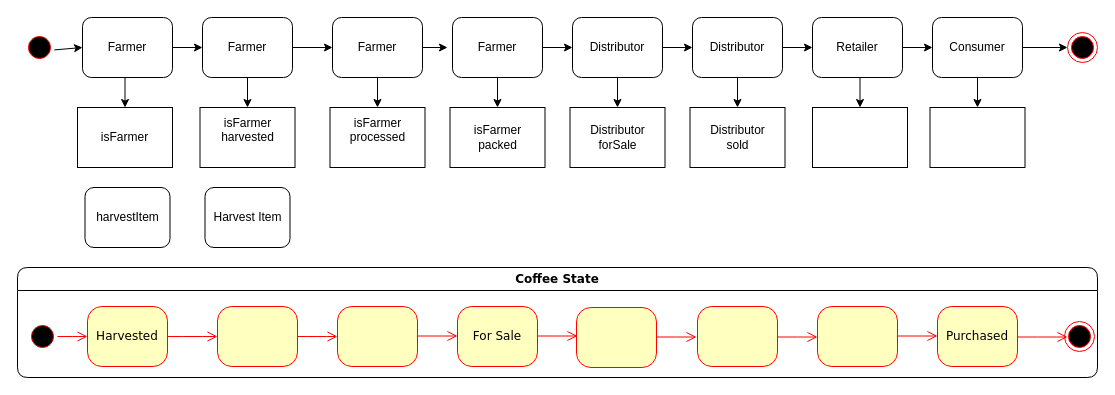
Some shapes in this 1115 by 395 pixel diagram are drawn without their labels. The centre of each missing label's shape, as x and y in pixels:
"isConsumer received" belongs at (x=977, y=137).
"isRetailer shipped" belongs at (x=860, y=137).
"Packed" belongs at (x=377, y=336).
"Processed" belongs at (x=257, y=336).
"Received" belongs at (x=857, y=336).
"Shipped" belongs at (x=737, y=336).
"Sold" belongs at (x=616, y=337).
